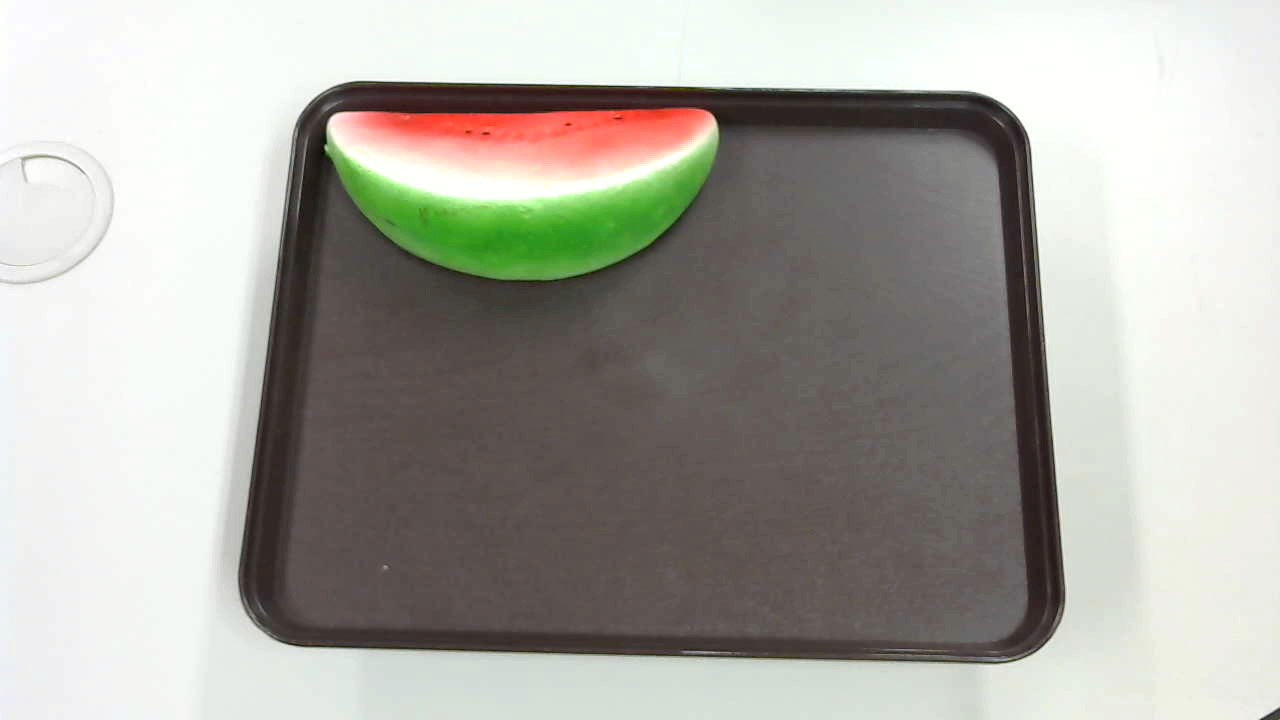water melon: (303, 88, 730, 296)
